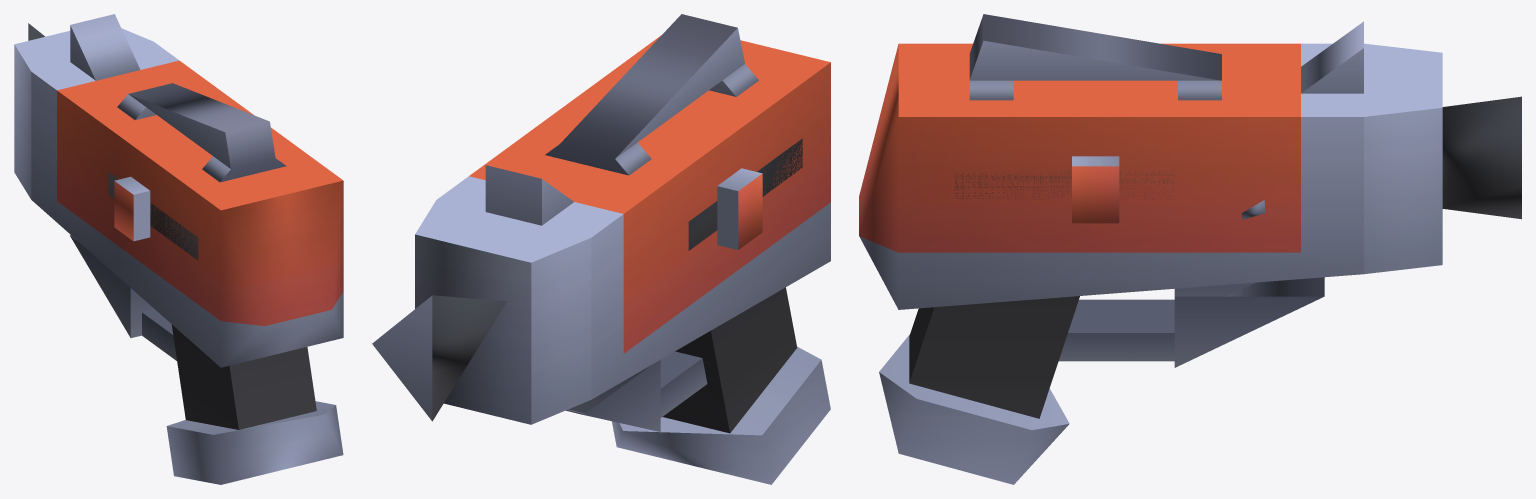
Rendered from blaster-b.glb.
3 views of the same model, side by side, from view 1: azimuth 30°, elevation 25°; view 2: azimuth 150°, elevation 25°; view 3: azimuth 270°, elevation 25° (orthographic). The views are drawn at different scales.
Parts seen in each view (by area): view 1: blaster-b; view 2: blaster-b; view 3: blaster-b.
Part boxes in pixels (bbox=[...]): blaster-b: bbox=[14, 14, 343, 484]; blaster-b: bbox=[372, 14, 830, 484]; blaster-b: bbox=[859, 14, 1521, 484].
Bounding box in the file's own units: 0.14 × 0.2944 × 0.4201.
Materials: 1 (1 with a texture image).
